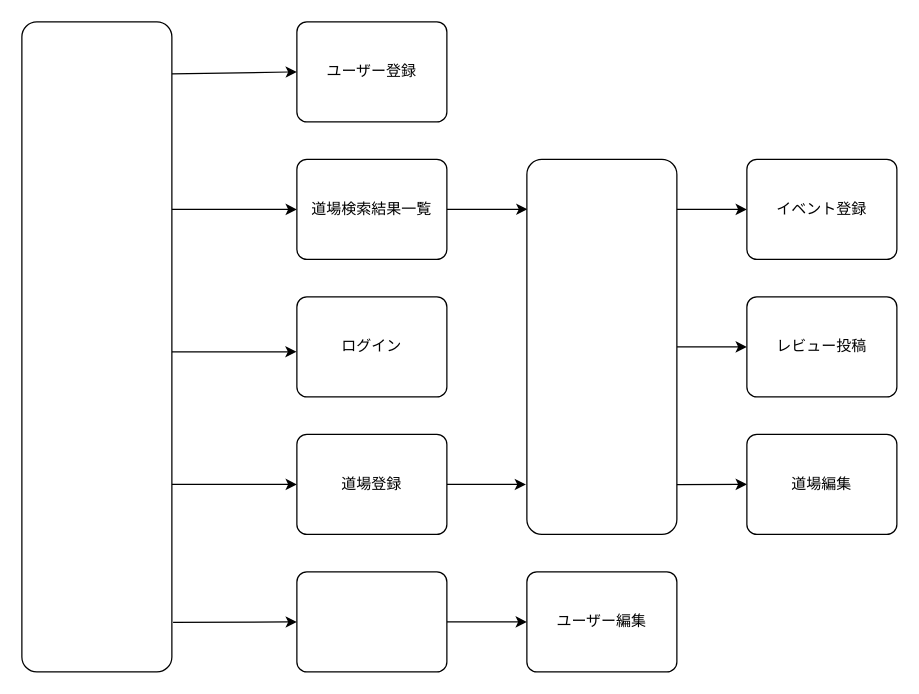
This 919x694 diagram has some shape labels left out. Each missing label, with the centre of its shape:
ホームページ: the point at 96,346
ユーザー詳細: the point at 371,621
道場詳細: the point at 601,346
